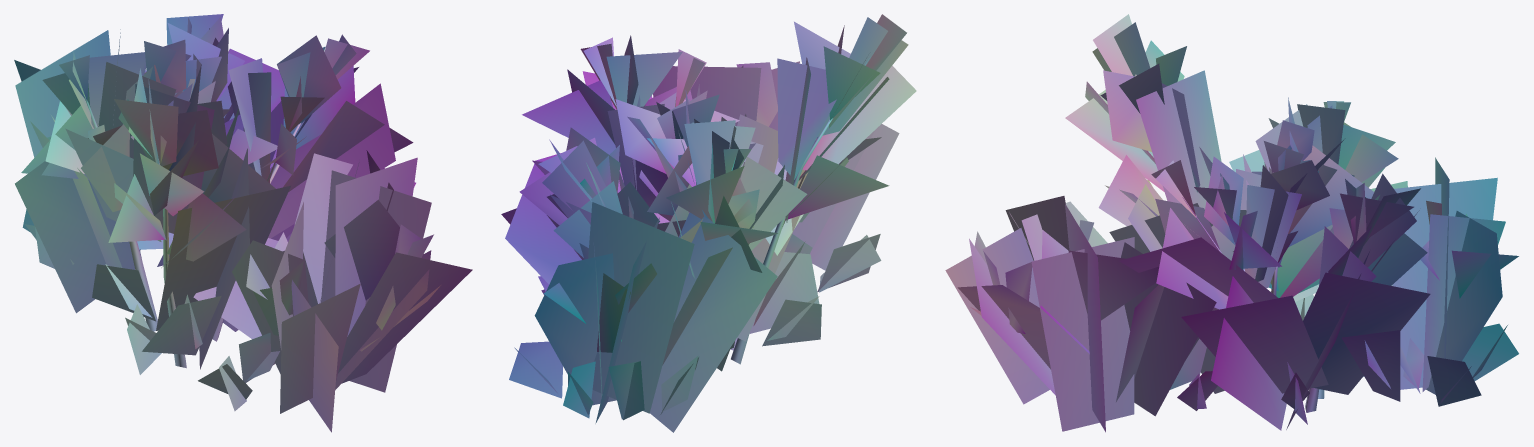
3 views of the same model, side by side, from view 1: azimuth 30°, elevation 25°; view 2: azimuth 150°, elevation 25°; view 3: azimuth 270°, elevation 25° (orthographic). The views are drawn at different scales.
Parts seen in each view (by area): view 1: SM_BS_Oleander_255cm; view 2: SM_BS_Oleander_255cm; view 3: SM_BS_Oleander_255cm.
Part boxes in pixels (x1=…): SM_BS_Oleander_255cm: x1=14, y1=14, x2=472, y2=432; SM_BS_Oleander_255cm: x1=501, y1=14, x2=916, y2=432; SM_BS_Oleander_255cm: x1=945, y1=14, x2=1518, y2=432.
Bounding box in the file's own units: 163 × 106 × 105.
